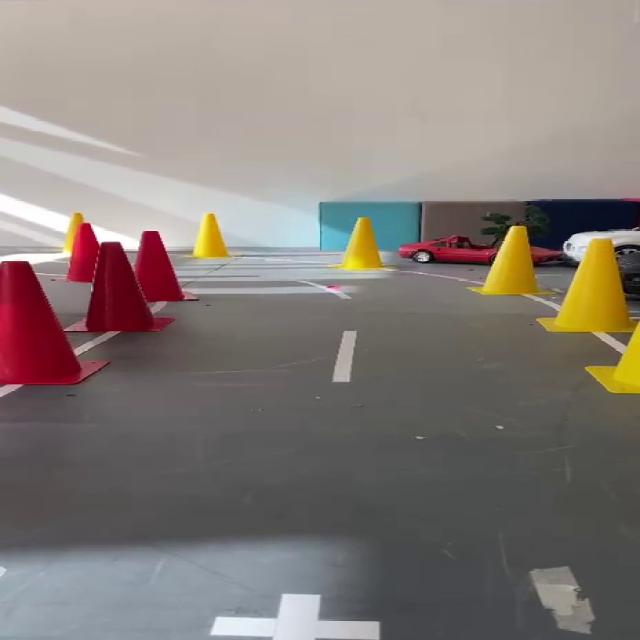Cone-red: (0, 261, 108, 385), (87, 242, 157, 332), (134, 231, 188, 301), (66, 220, 98, 282)
Cones-yellow: (538, 239, 634, 332), (476, 225, 549, 295), (586, 321, 639, 394), (334, 217, 383, 270), (192, 213, 228, 258), (62, 212, 84, 255)
